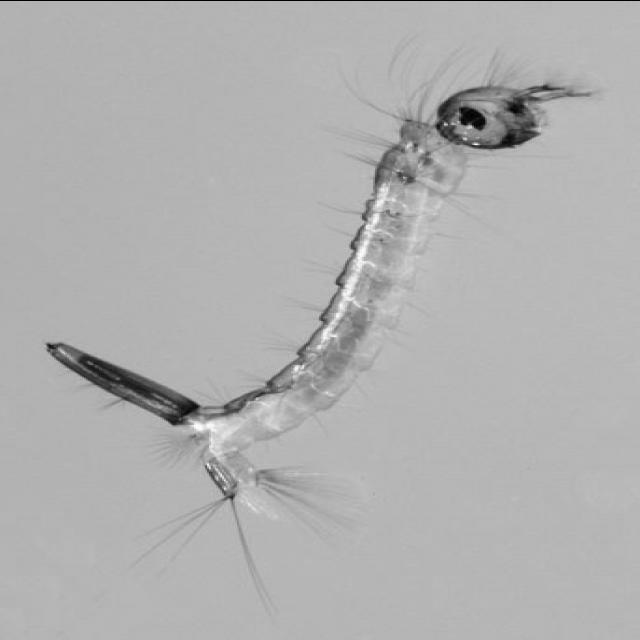larvas: (50, 82, 548, 495)
